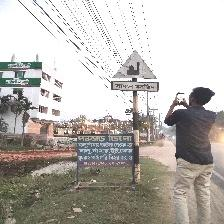Mosque in front: (111, 51, 159, 89)
